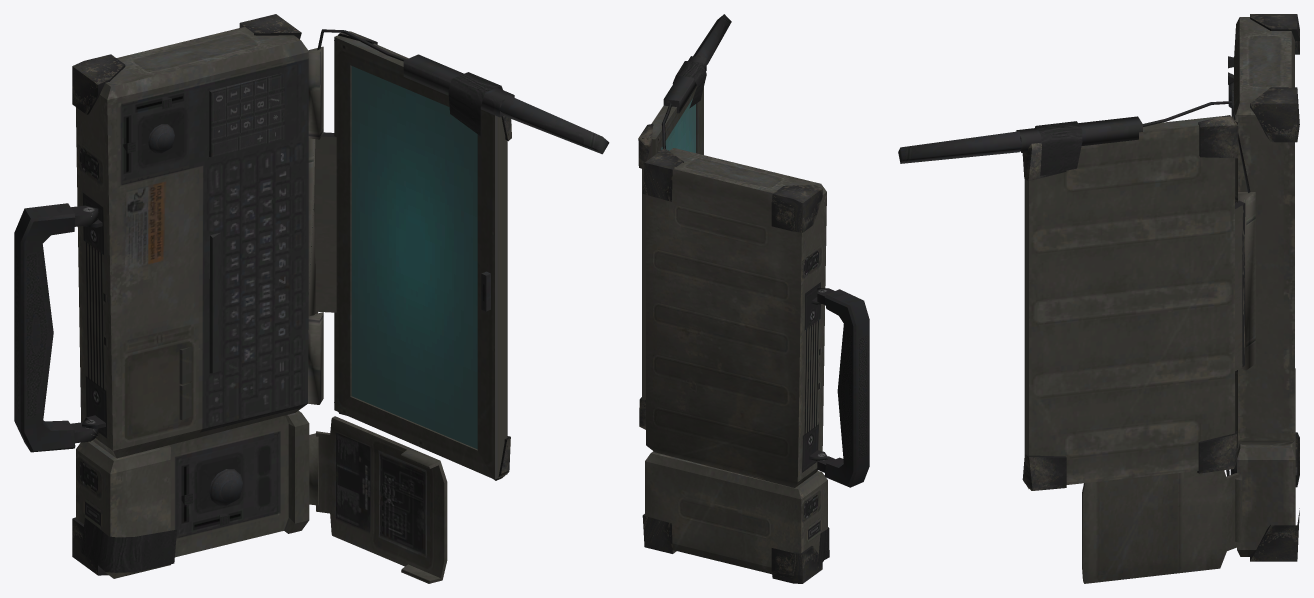
Rendered from weapon_uav_control_unit_LOD0.obj.
The picture shows the model from 3 angles, left to right: view 1: azimuth 30°, elevation 25°; view 2: azimuth 150°, elevation 25°; view 3: azimuth 270°, elevation 25°; orthographic projection. The views are drawn at different scales.
Parts seen in each view (by area): view 1: mtl_uav_control, mtl_uav_scanlines; view 2: mtl_uav_control, mtl_uav_scanlines; view 3: mtl_uav_control.
Boxes of the visible parts, box(x1,y1,x2,y2) form: mtl_uav_control: box(14, 14, 609, 583); mtl_uav_scanlines: box(351, 66, 477, 449); mtl_uav_control: box(638, 14, 869, 583); mtl_uav_scanlines: box(661, 98, 695, 152); mtl_uav_control: box(898, 14, 1299, 583).
Bounding box in the file's own units: 39.42 × 48.73 × 37.78.
